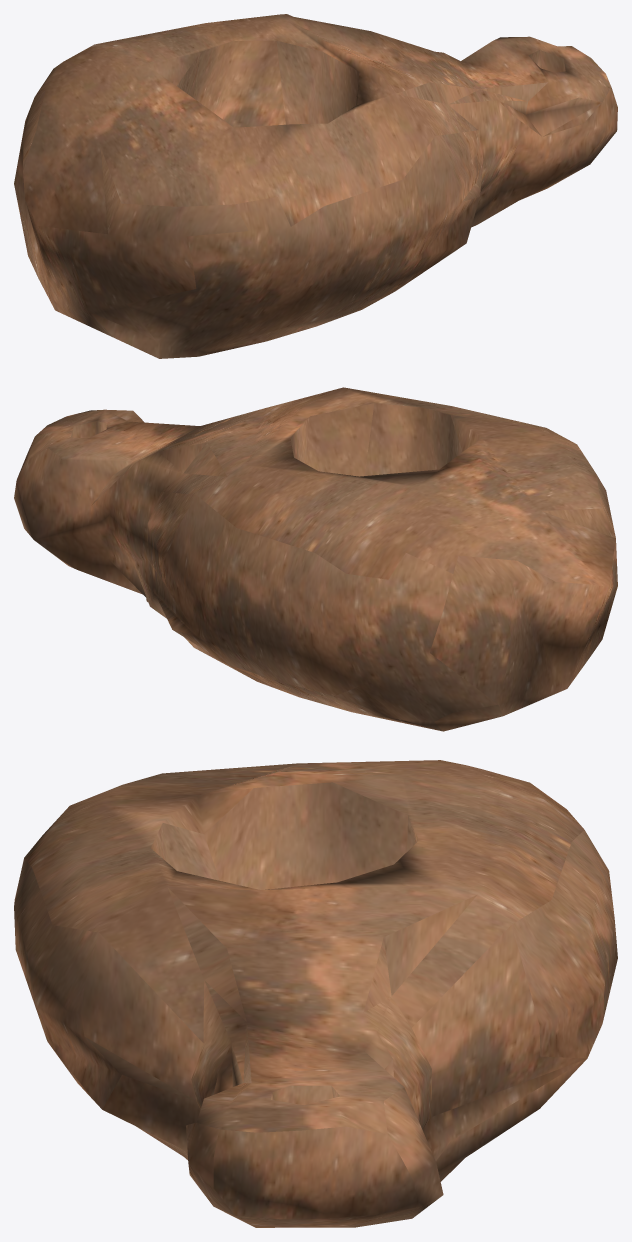
File: lamp2.glb
3 renders of one model, top to bottom at view 1: azimuth 30°, elevation 25°; view 2: azimuth 150°, elevation 25°; view 3: azimuth 270°, elevation 25°, orthographic. The views are drawn at different scales.
Visible parts, largest first — view 1: lamp; view 2: lamp; view 3: lamp.
Boxes of the visible parts, bbox=[...] form: lamp: bbox=[14, 14, 617, 358]; lamp: bbox=[14, 387, 617, 731]; lamp: bbox=[14, 760, 617, 1227].
Size of the model in its own units: 4.71 by 1.71 by 3.24.
1 material, 1 textured.
